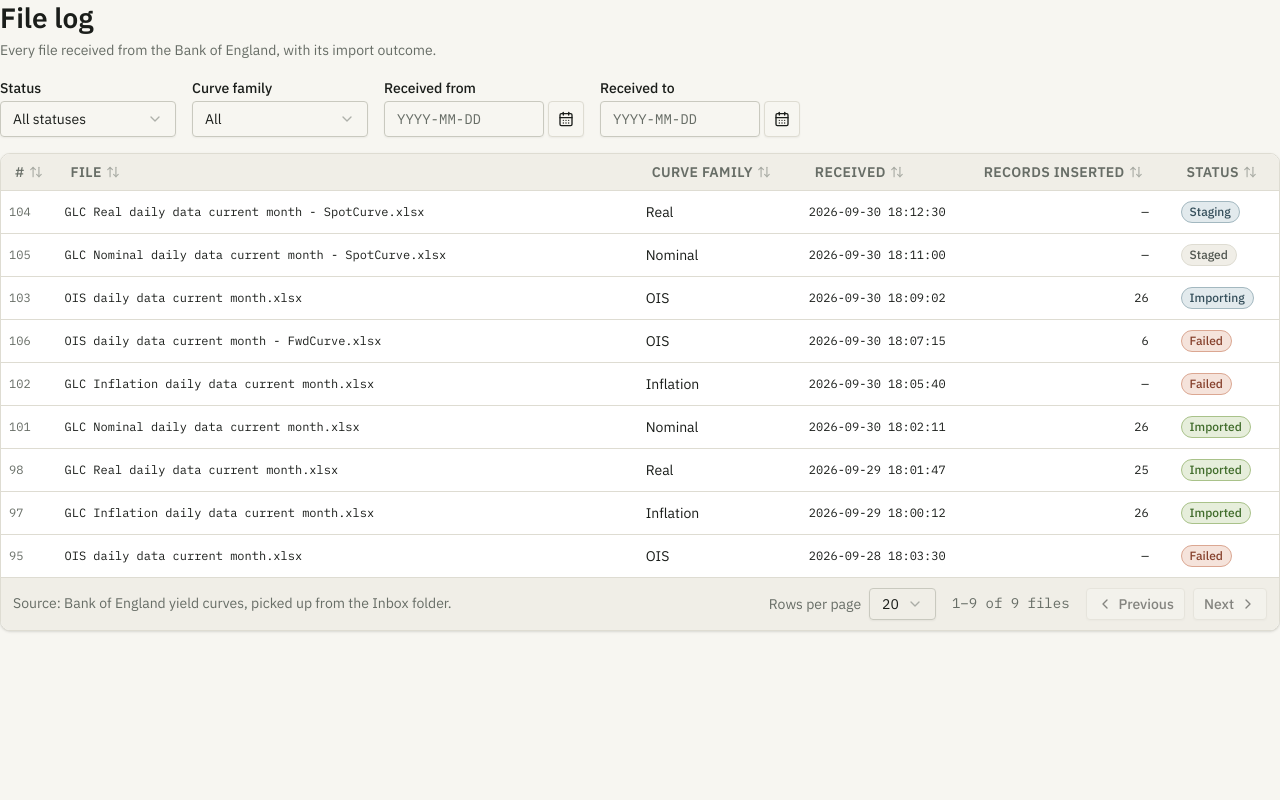
Test: Epic quality-check-and-clean-up, Story 2: File log date pickers › opens the received-date calendar on the current month when empty, and on the chosen date's month once a date is set
This screenshot has width=1280, height=800.
Click the button named "Choose received-from date".
click(566, 119)  # box x1=548 y1=101 x2=584 y2=137
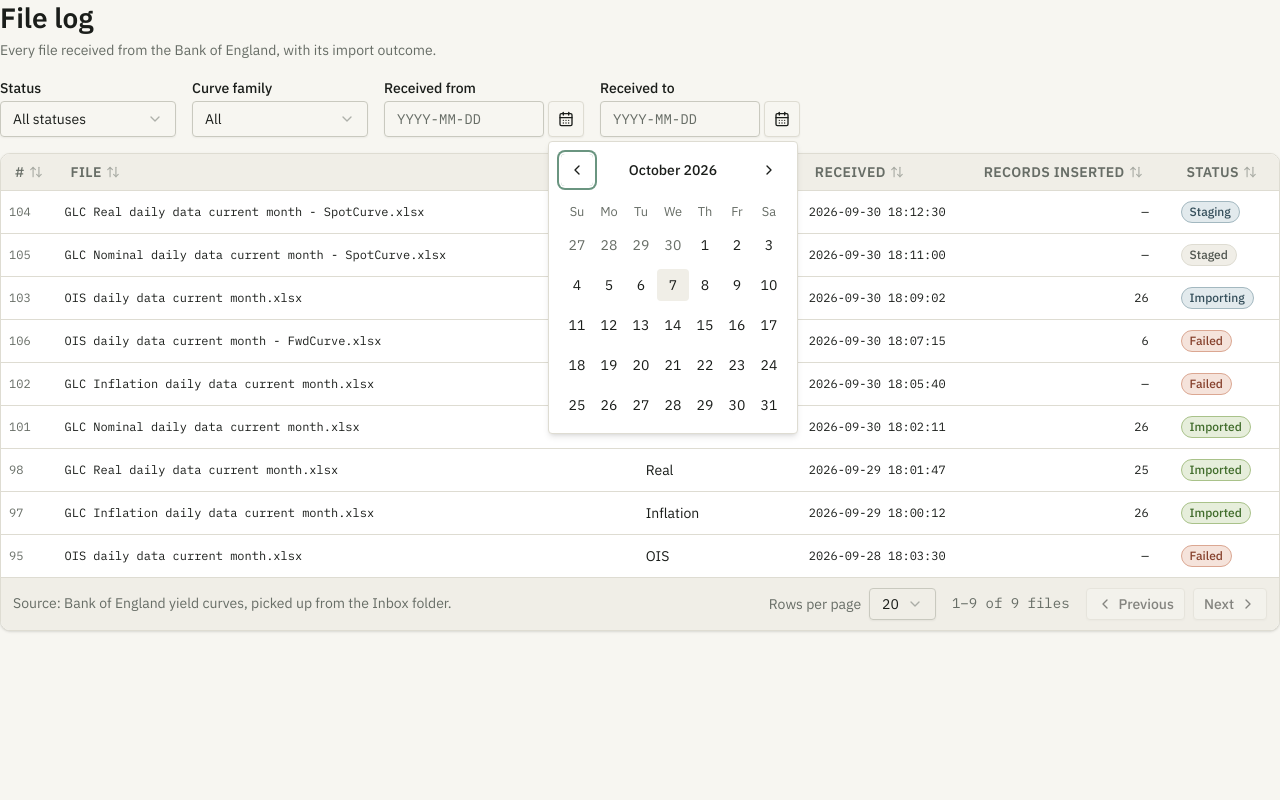
Press Escape
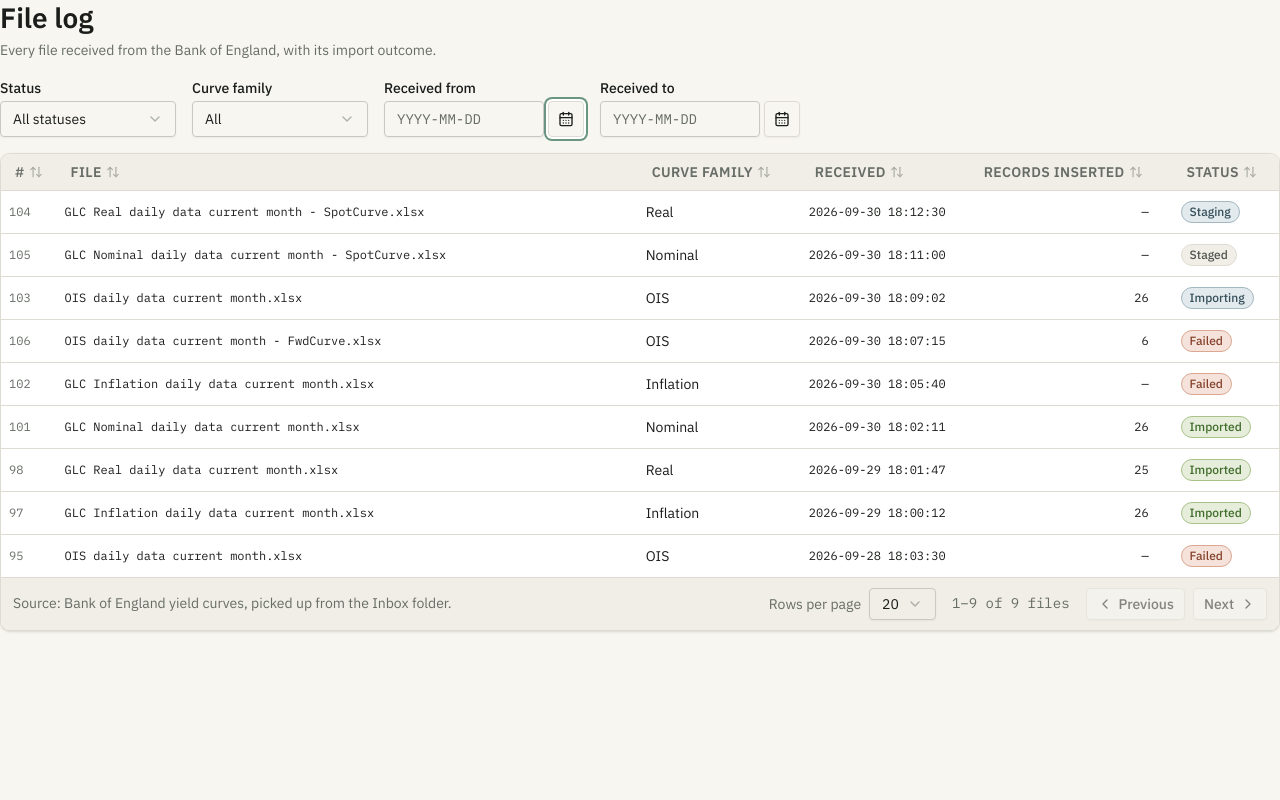
Expected: the dialog is gone
Type "2025-03-14" into the field labelled "Received to".
click(680, 119); type("2025-03-14")  # box x1=600 y1=101 x2=760 y2=137
Then press Enter
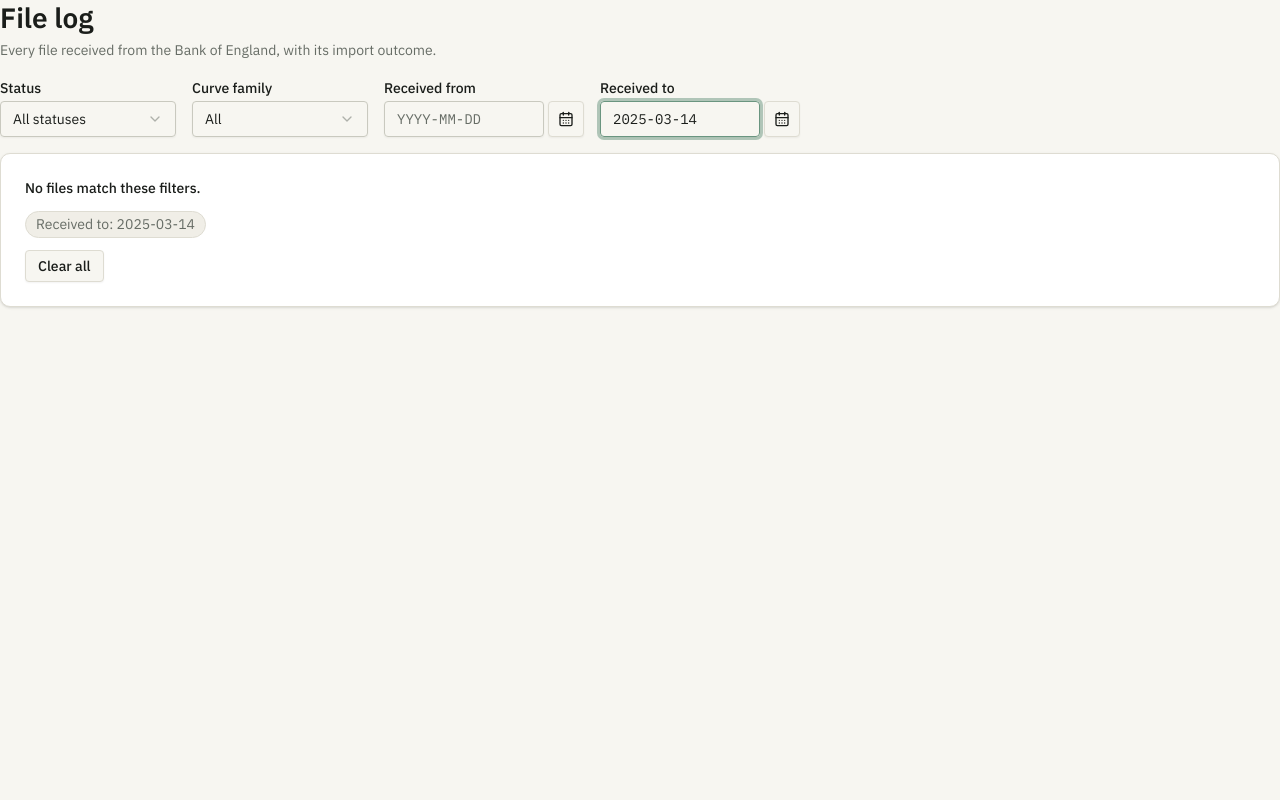
Click the button named "Choose received-to date".
click(782, 119)  # box x1=764 y1=101 x2=800 y2=137
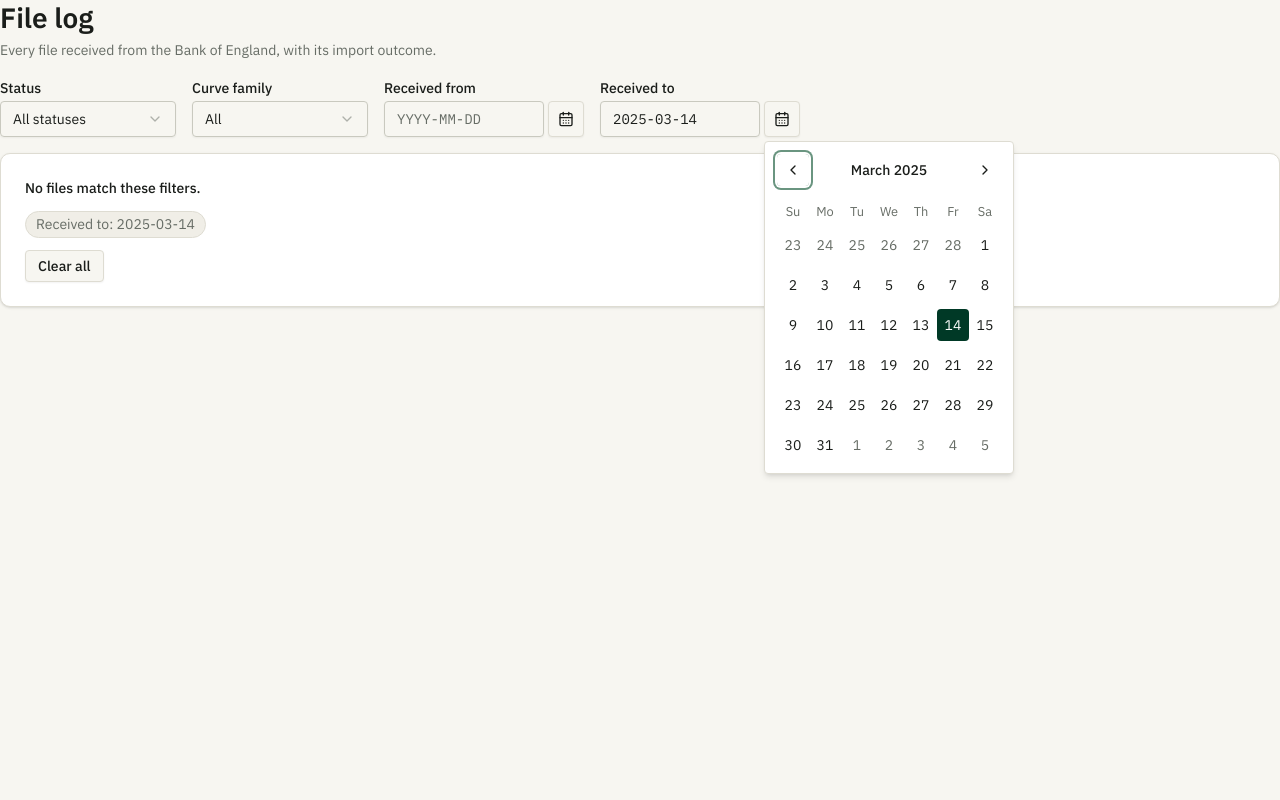
Expected: the table named "March 2025" is shown, x1=777 y1=202 x2=1001 y2=461
